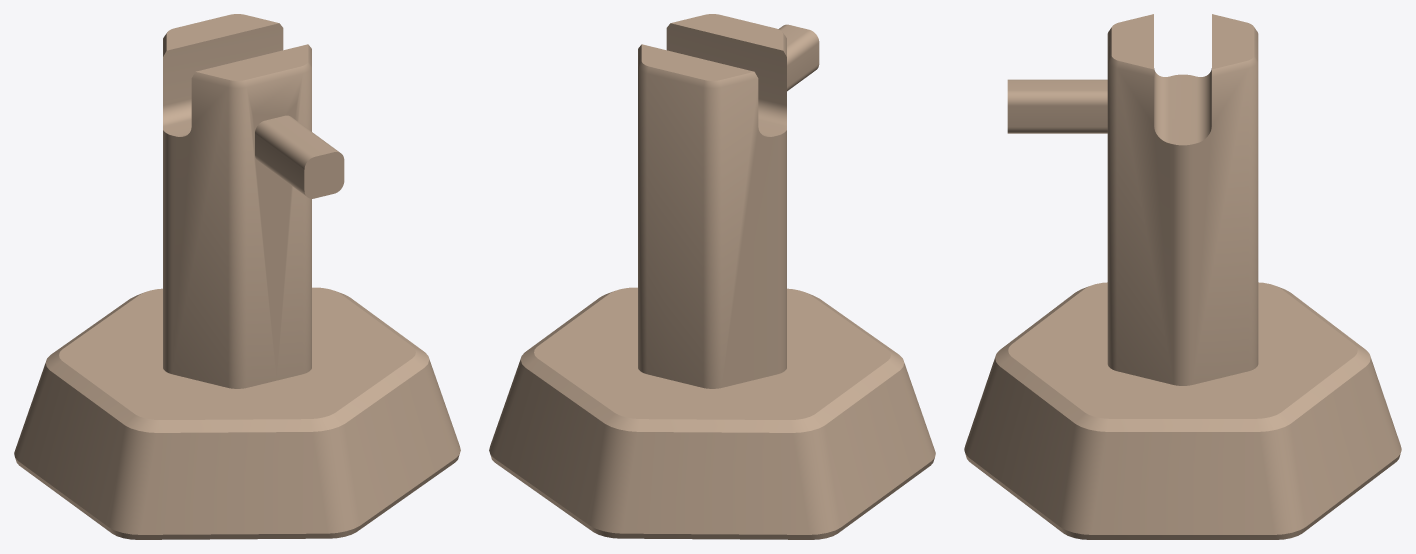
File: GlassesHolder1.glb
3 renders of one model, left to right at view 1: azimuth 30°, elevation 25°; view 2: azimuth 150°, elevation 25°; view 3: azimuth 270°, elevation 25°, orthographic.
Visible parts, largest first — view 1: Glasses Stand 2; view 2: Glasses Stand 2; view 3: Glasses Stand 2.
Part boxes in pixels (x1,y1,x2,y2): Glasses Stand 2: (14,14,460,539); Glasses Stand 2: (489,14,935,539); Glasses Stand 2: (964,14,1401,539).
Size of the model in its own units: 69.88 by 78.84 by 75.55.
